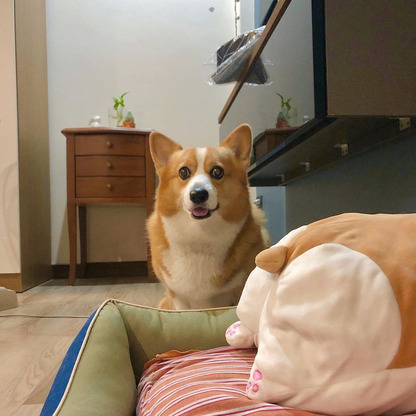Corgi: (132, 124, 280, 311)
